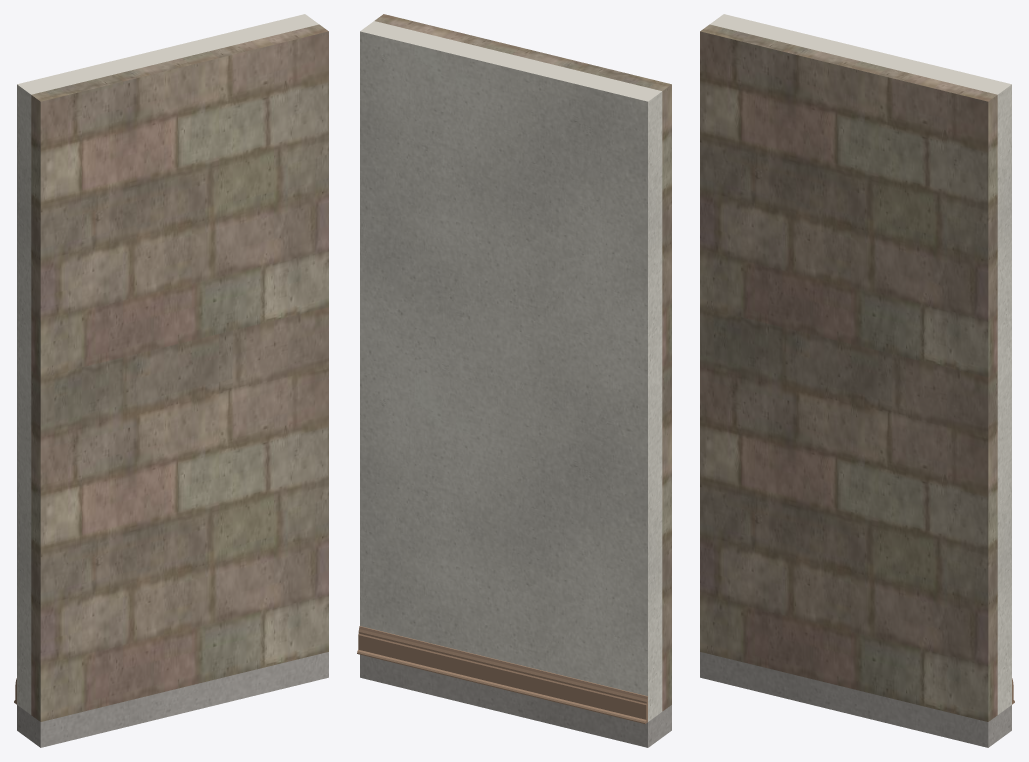
File: s_plain_bb.glb
3 views of the same model, side by side, from view 1: azimuth 30°, elevation 25°; view 2: azimuth 150°, elevation 25°; view 3: azimuth 330°, elevation 25° (orthographic).
Visible parts, largest first — view 1: s_plain_bb_fstone, s_plain_bb_plaster, s_plain_bb_concrete; view 2: s_plain_bb_plaster, s_plain_bb_fstone, molduras, s_plain_bb_concrete; view 3: s_plain_bb_fstone, s_plain_bb_plaster, s_plain_bb_concrete.
Part boxes in pixels (left/top/right/bottom): s_plain_bb_fstone: left=31, top=24, right=328, bottom=721; s_plain_bb_plaster: left=17, top=14, right=318, bottom=714; s_plain_bb_concrete: left=17, top=652, right=328, bottom=747; s_plain_bb_plaster: left=360, top=21, right=662, bottom=721; s_plain_bb_fstone: left=374, top=14, right=671, bottom=711; molduras: left=357, top=626, right=647, bottom=723; s_plain_bb_concrete: left=360, top=654, right=671, bottom=747; s_plain_bb_fstone: left=700, top=24, right=997, bottom=721; s_plain_bb_plaster: left=710, top=14, right=1011, bottom=714; s_plain_bb_concrete: left=700, top=652, right=1011, bottom=747.
Size of the model in its own units: 1.75 by 3.75 by 0.28.
4 materials, 3 textured.
